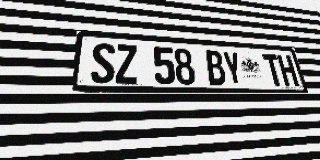5: (153, 46, 176, 84)
8: (173, 48, 196, 85)
B: (204, 50, 227, 85)
H: (277, 55, 299, 86)
S: (91, 43, 115, 84)
T: (262, 54, 285, 86)
Y: (221, 51, 245, 85)
Z: (116, 44, 138, 84)
